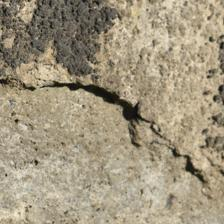Crack: (3, 37, 207, 150)
